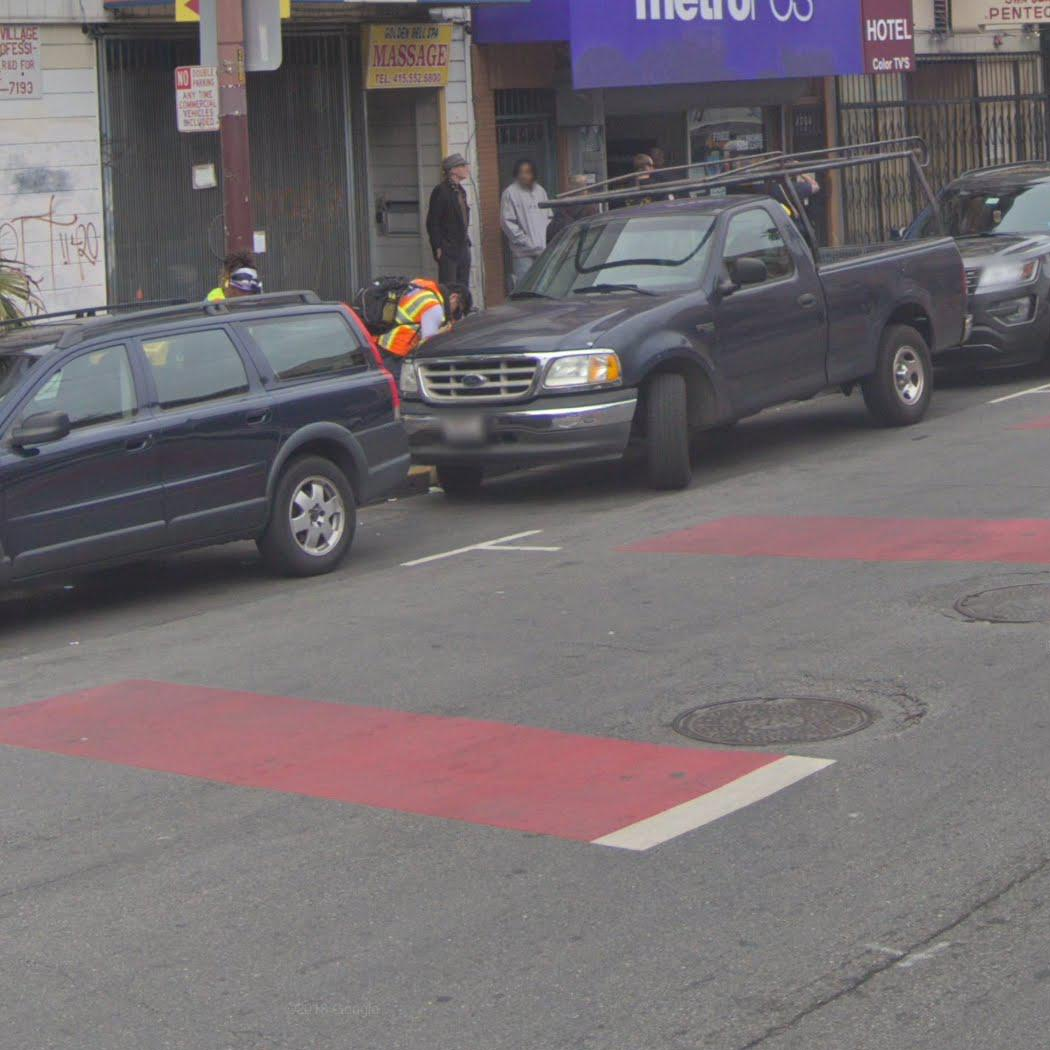No Parking: (172, 62, 223, 136)
